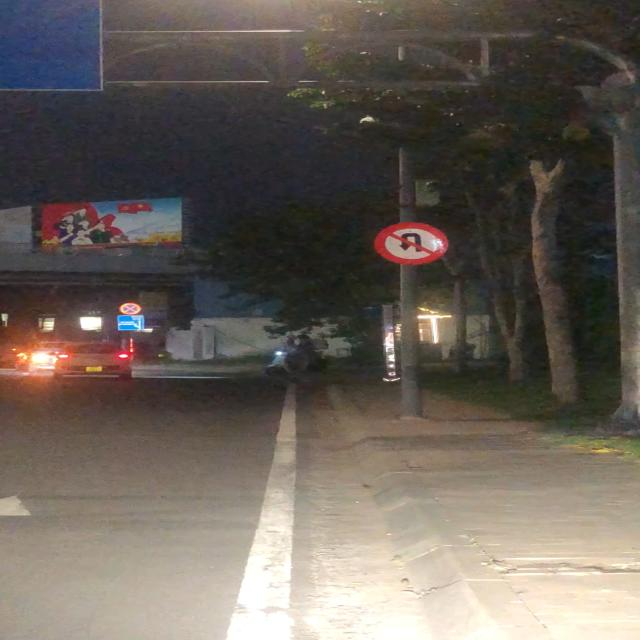Bien bao cam quay dau xe: (371, 219, 452, 266)
